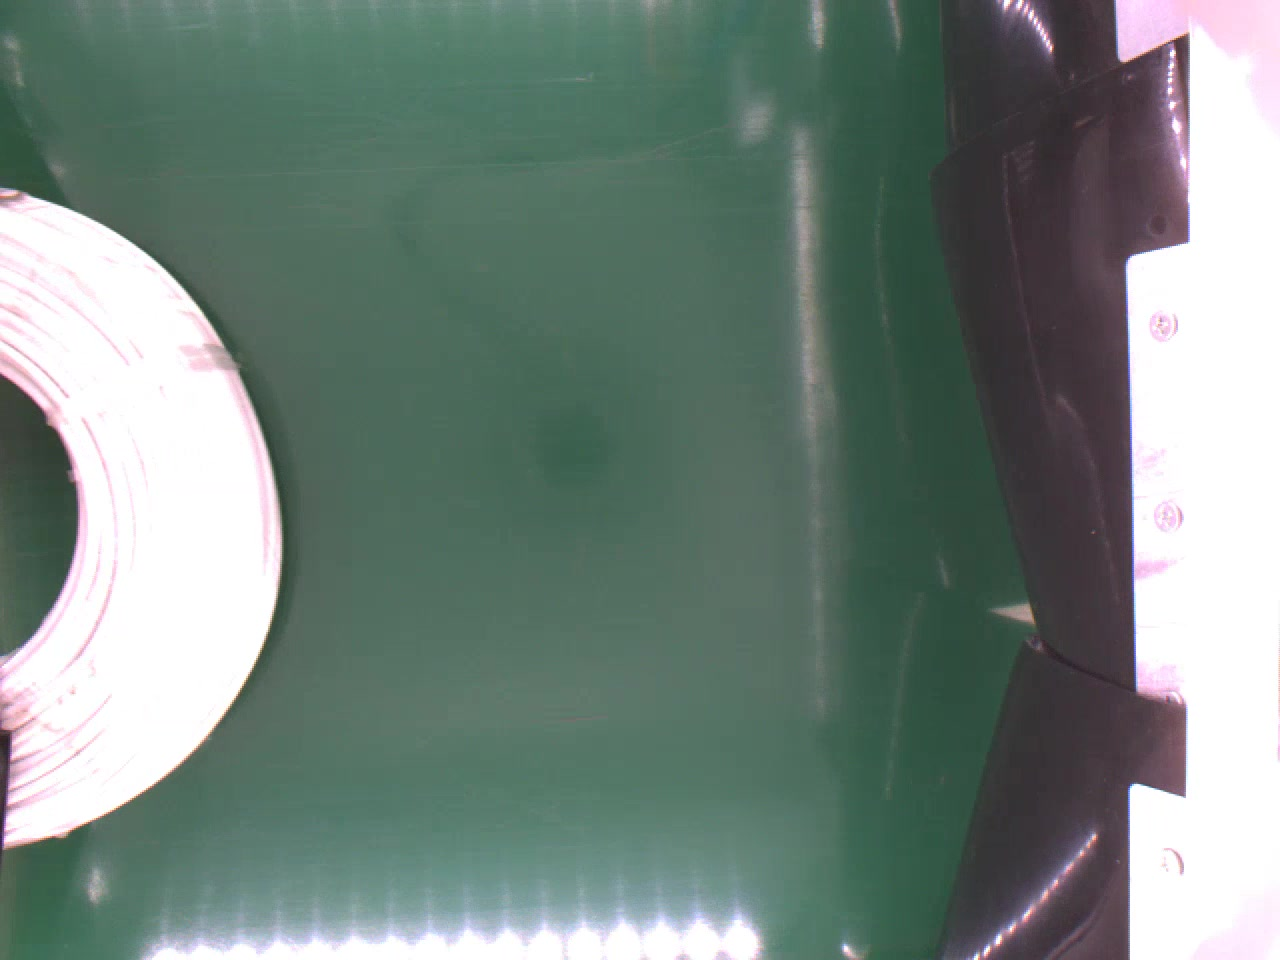white: (0, 183, 288, 853)
